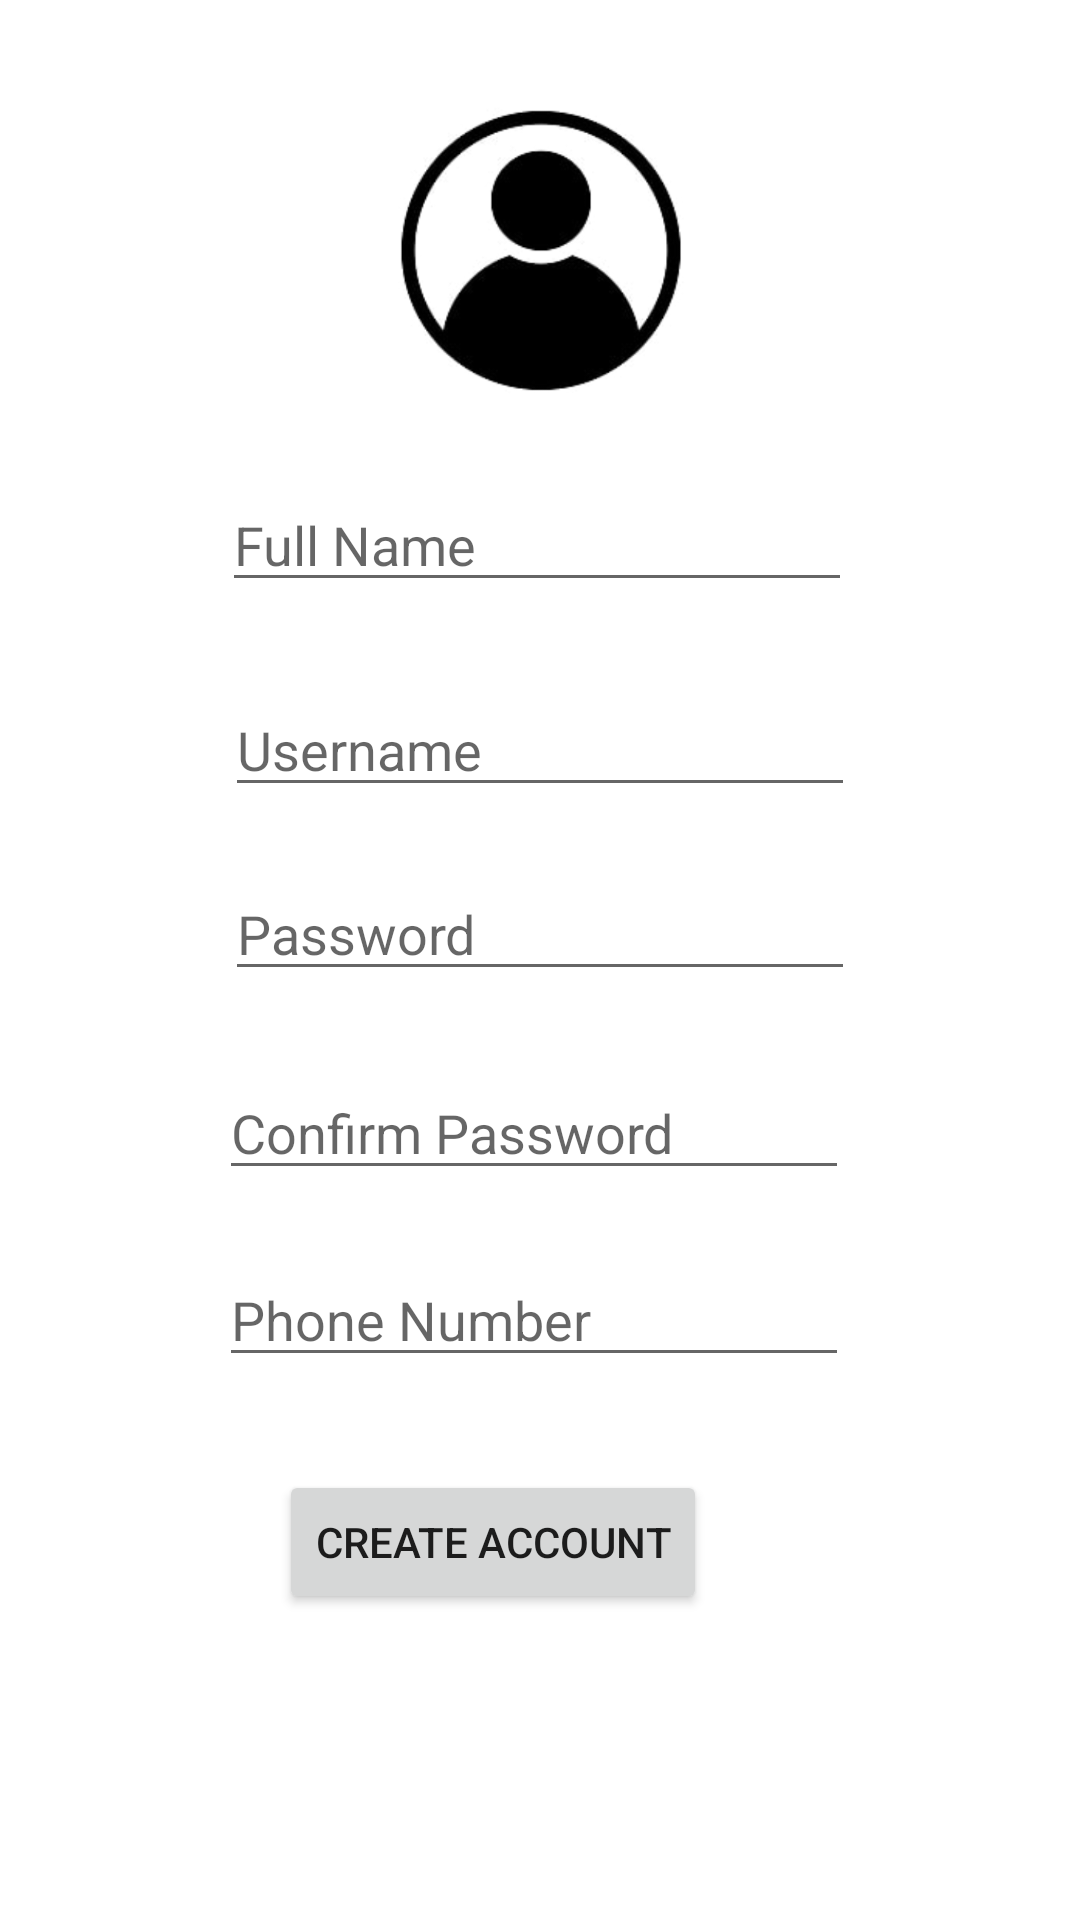

Icons on this 1080px×1920px Android screen, each with the point to tap as (x=x, y=y):
profile: (x=541, y=250)
